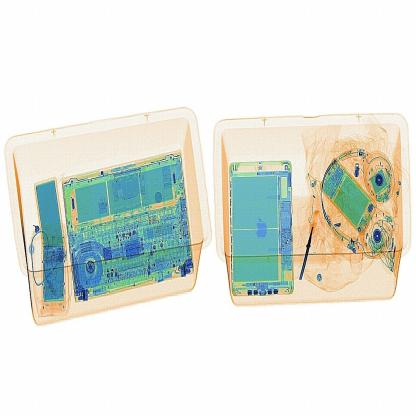gun: (300, 204, 322, 284)
